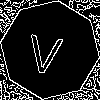V: (25, 25, 66, 76)
